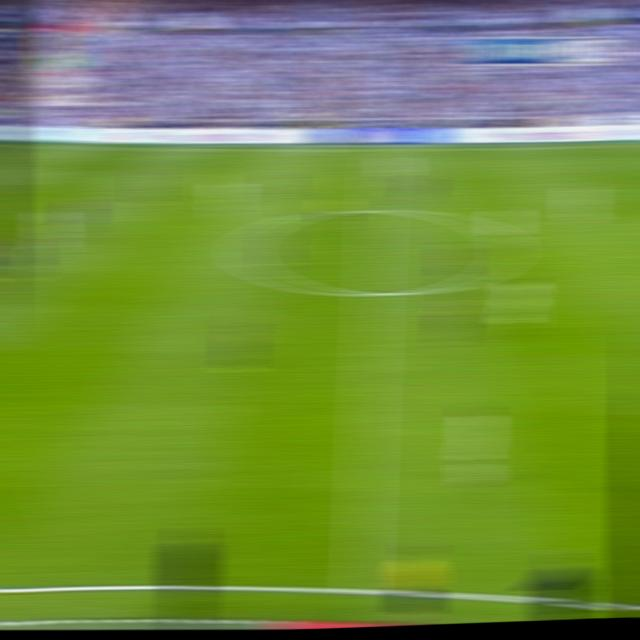halfcircle_bottom: (358, 279, 388, 305)
halfcircle_top: (362, 199, 389, 219)
midline_bottom_intersection: (344, 572, 376, 598)
midline_top_intersection: (366, 142, 391, 155)
